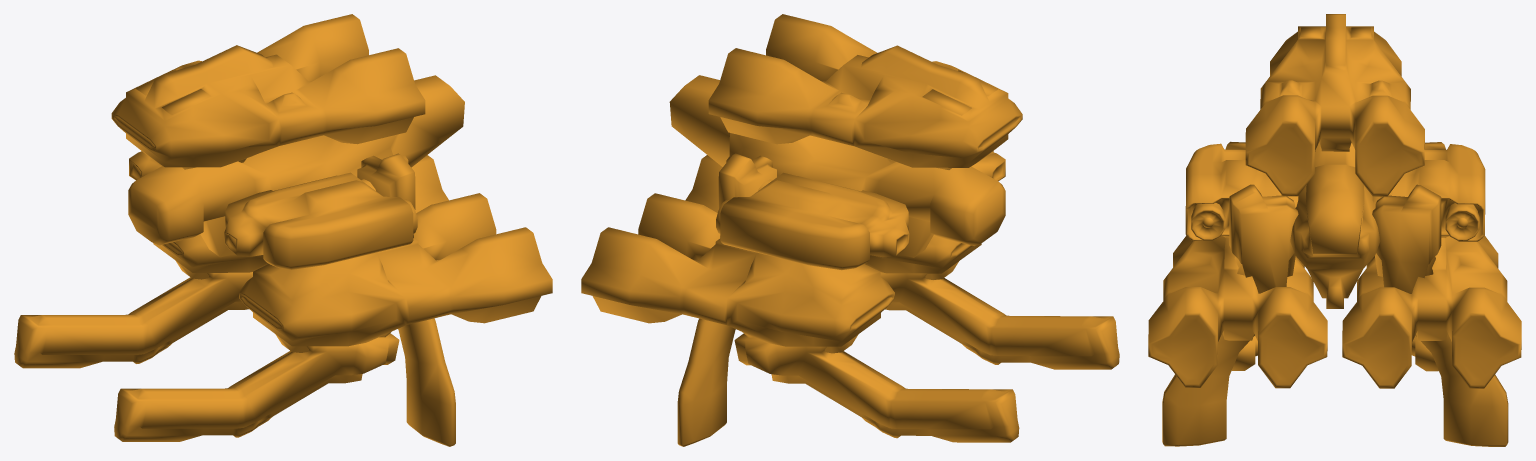
Rendered from ship18_orange.glb.
The picture shows the model from 3 angles, left to right: view 1: azimuth 30°, elevation 25°; view 2: azimuth 150°, elevation 25°; view 3: azimuth 270°, elevation 25°; orthographic projection. The views are drawn at different scales.
Parts seen in each view (by area): view 1: ME_ship_IndexedFaceSet; view 2: ME_ship_IndexedFaceSet; view 3: ME_ship_IndexedFaceSet.
Boxes of the visible parts, left/top/right/bottom form: ME_ship_IndexedFaceSet: left=14, top=14, right=552, bottom=446; ME_ship_IndexedFaceSet: left=581, top=14, right=1119, bottom=446; ME_ship_IndexedFaceSet: left=1148, top=14, right=1521, bottom=446.
Bounding box in the file's own units: 299 × 266 × 257.
